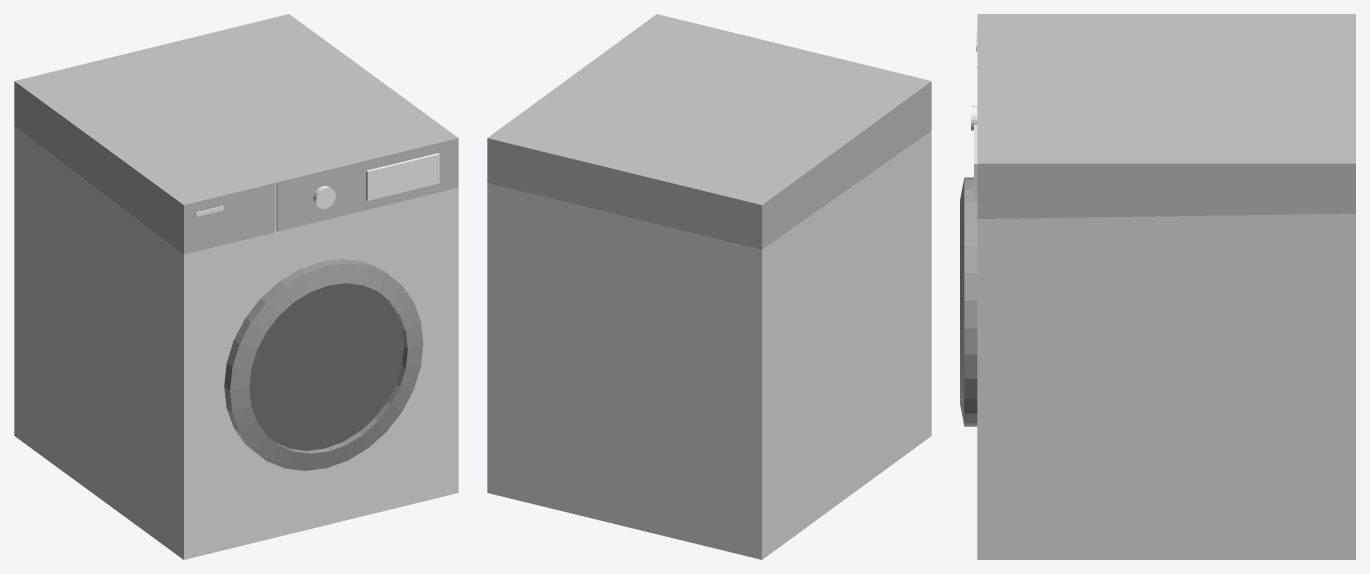
File: washing_machine_01.glb
3 views of the same model, side by side, from view 1: azimuth 30°, elevation 25°; view 2: azimuth 150°, elevation 25°; view 3: azimuth 270°, elevation 25° (orthographic). The views are drawn at different scales.
Parts seen in each view (by area): view 1: Cube; view 2: Cube; view 3: Cube.
Boxes of the visible parts, x1,y1,x2,y2 form: Cube: (14,14,458,559); Cube: (487,14,931,559); Cube: (960,14,1355,559).
Bounding box in the file's own units: 0.6898 × 0.8688 × 0.7704.
1 material, 1 textured.
